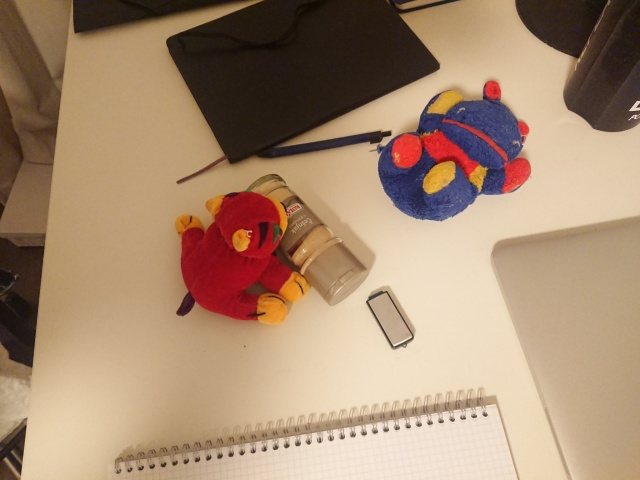Kotanyi Garlic Granules 70g: (233, 171, 373, 309)
